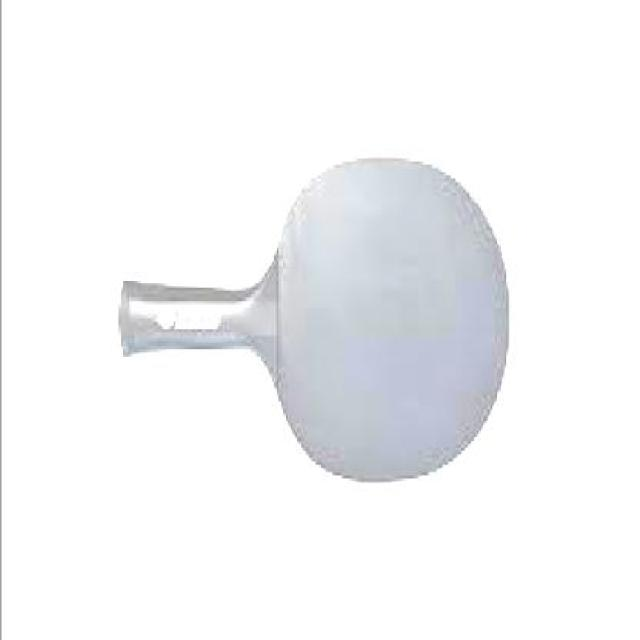table_tennis_racket: (268, 144, 514, 484)
